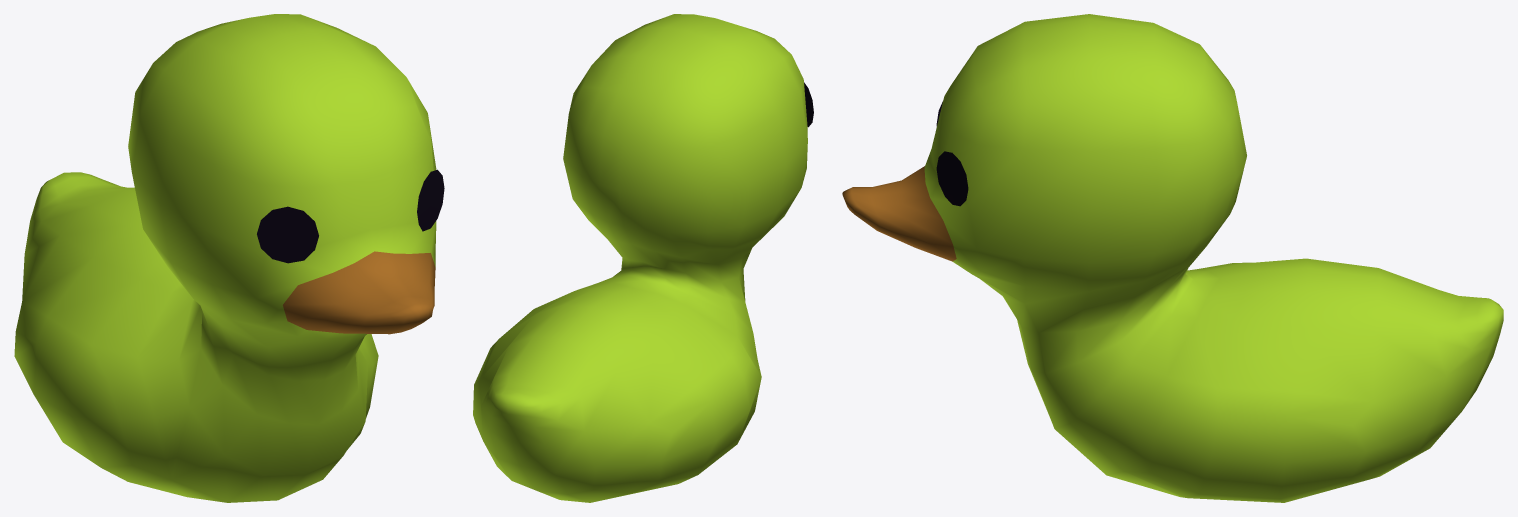
File: Duck_GreenNeon.fbx
3 views of the same model, side by side, from view 1: azimuth 30°, elevation 25°; view 2: azimuth 150°, elevation 25°; view 3: azimuth 270°, elevation 25° (orthographic). The views are drawn at different scales.
Parts seen in each view (by area): view 1: Duck_GreenNeon; view 2: Duck_GreenNeon; view 3: Duck_GreenNeon.
Boxes of the visible parts, x1=… form: Duck_GreenNeon: x1=14, y1=14, x2=444, y2=502; Duck_GreenNeon: x1=473, y1=14, x2=813, y2=502; Duck_GreenNeon: x1=842, y1=14, x2=1503, y2=502.
Size of the model in its own units: 76.94 by 124 by 165.
